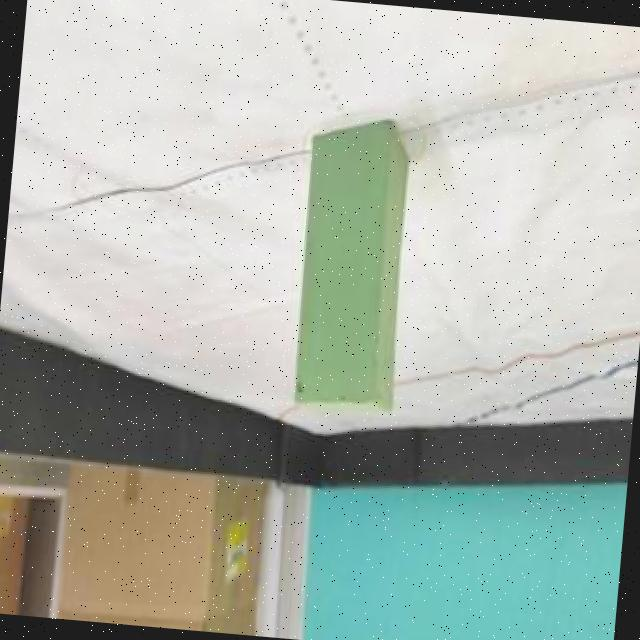greenbox: (288, 112, 422, 424)
